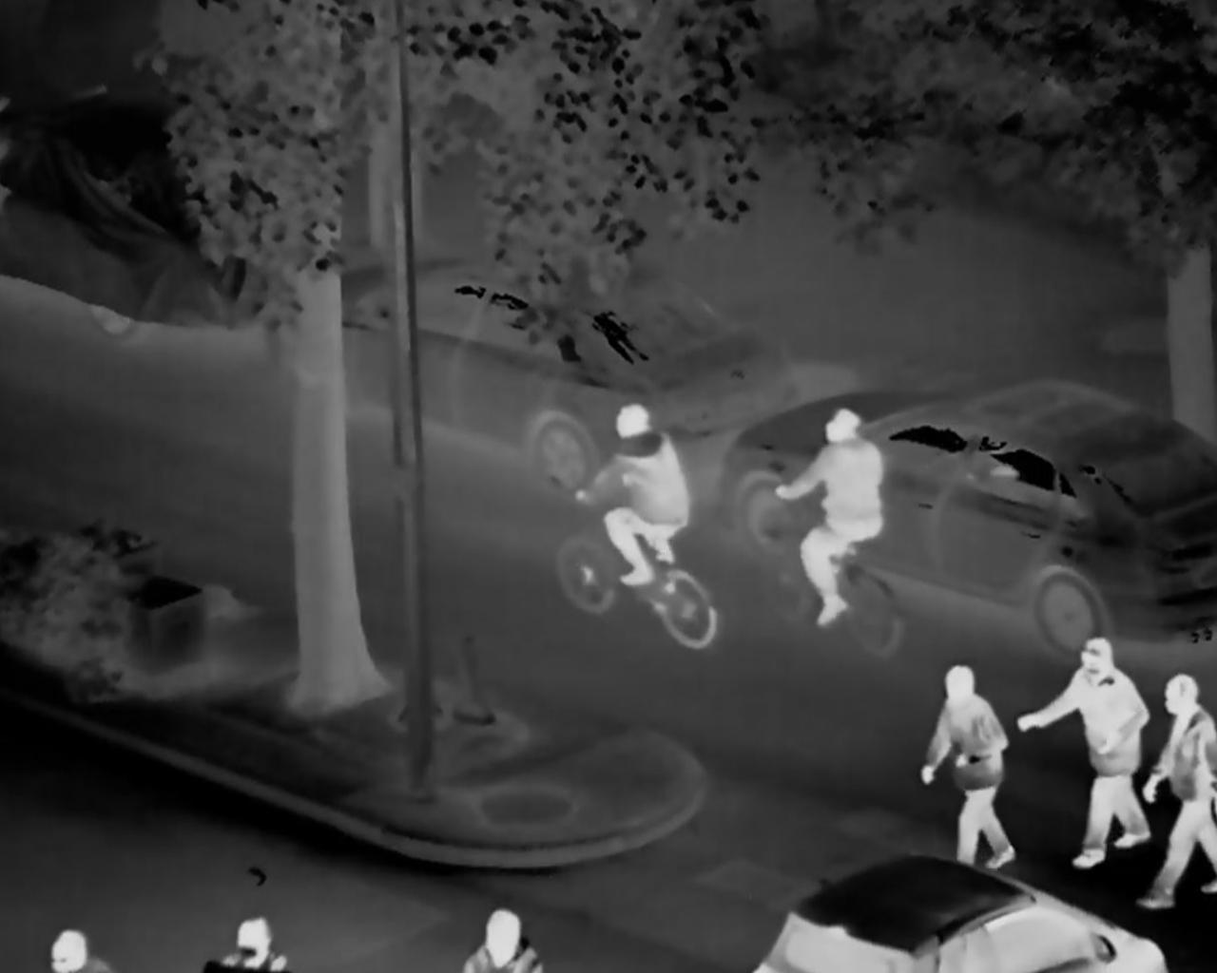person: (1022, 632, 1156, 881), (770, 401, 904, 632), (565, 400, 693, 597), (915, 658, 1017, 875), (1138, 659, 1217, 911), (457, 906, 543, 973), (197, 907, 284, 973), (42, 924, 106, 973)
